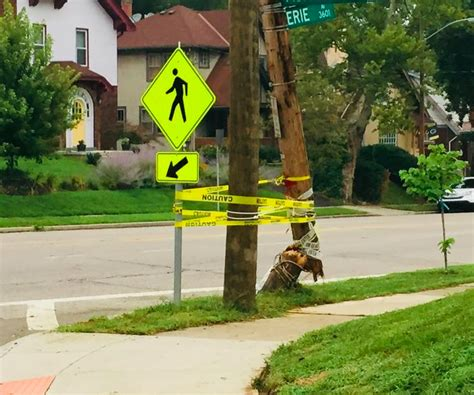pole: (236, 1, 323, 288)
